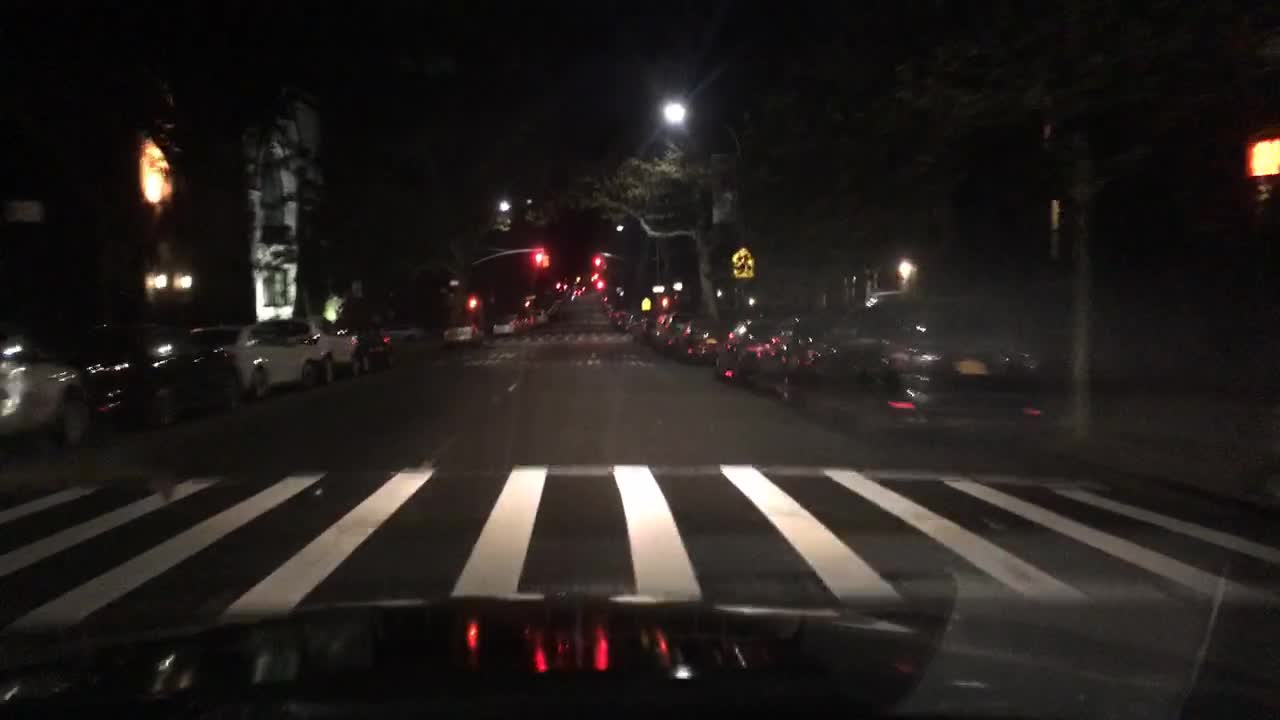car: (777, 291, 1068, 447), (57, 319, 240, 432), (185, 319, 326, 401), (0, 334, 95, 453), (709, 313, 800, 388), (301, 312, 372, 380), (331, 313, 397, 367), (672, 313, 730, 365), (659, 311, 697, 357), (440, 318, 486, 349), (623, 311, 659, 342), (645, 315, 669, 346), (607, 306, 633, 330), (504, 309, 529, 333), (491, 318, 519, 336), (527, 306, 553, 325)
traffic light: (1246, 134, 1277, 178), (590, 256, 604, 269), (532, 250, 544, 264), (467, 297, 480, 309), (595, 278, 607, 290)
traffic sign: (731, 247, 755, 279), (638, 296, 651, 309)
